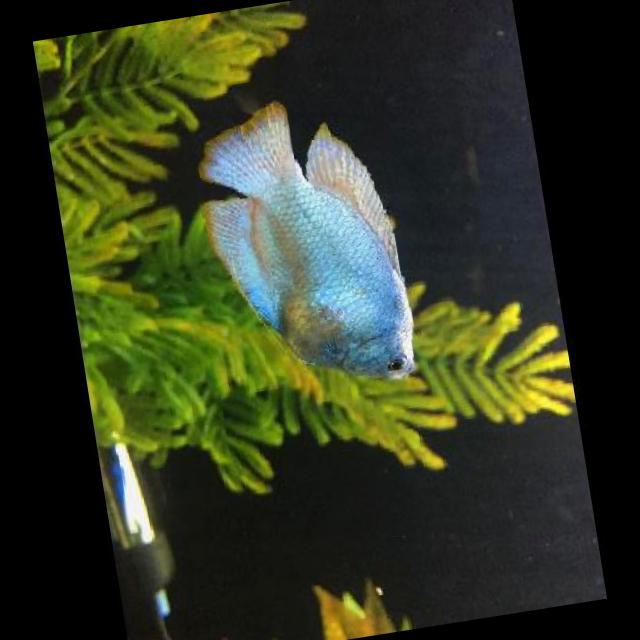Gourami: (196, 82, 429, 406)
